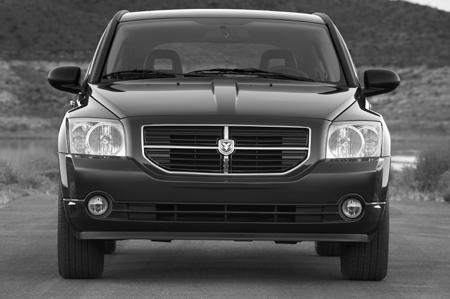car: (48, 10, 402, 284)
